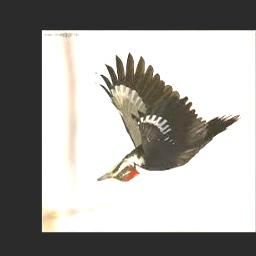Woodpecker: (94, 52, 241, 183)
